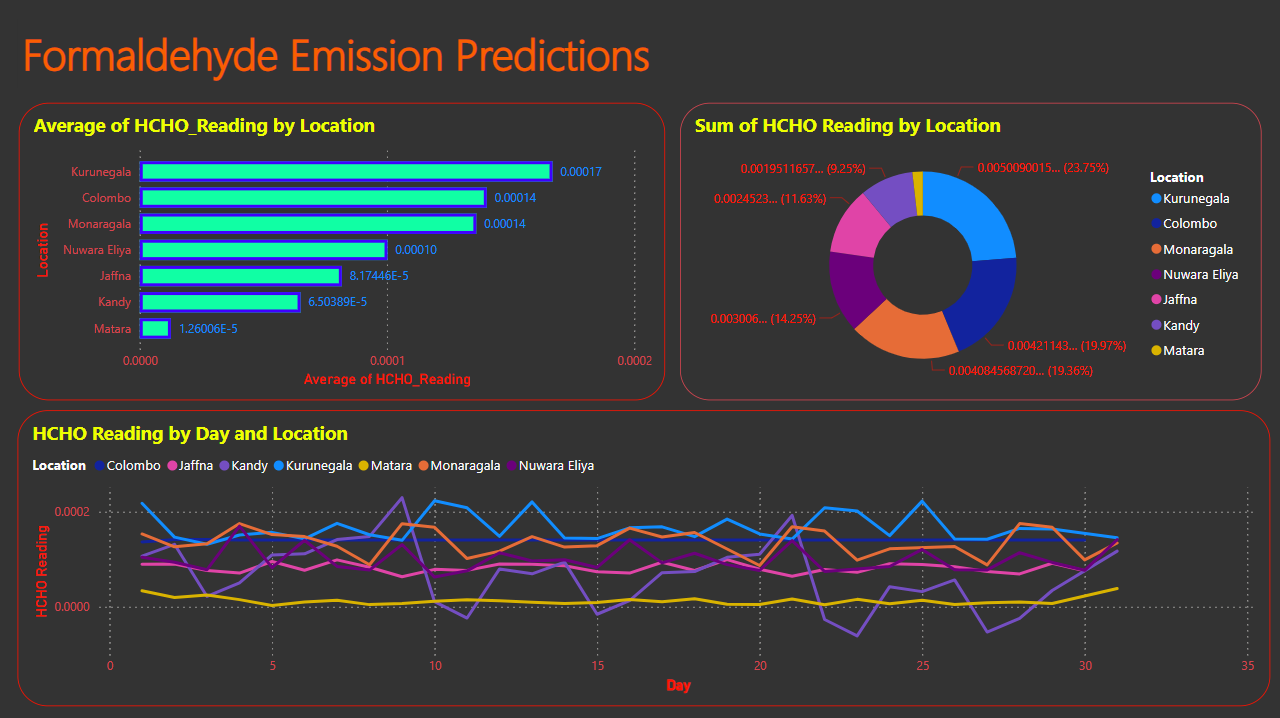

The dashboard page shown, as its layout file describes it:
{"tool":"powerbi","page":{"name":"Emission Predictions","canvas":[1280,720],"ordinal":0},"visuals":[{"type":"textbox","box":[17.5,20,647.5,68.8],"z":0},{"type":"donutChart","title":"Sum of HCHO Reading by Location","fields":{"Category":["Final_Predictions.Location"],"Y":["Sum(Final_Predictions.HCHO_Reading)"]},"box":[680,103.8,581.2,297.5],"z":1000},{"type":"barChart","fields":{"Category":["Final_Predictions.Location"],"Y":["Avg(Final_Predictions.HCHO_Reading)"]},"box":[18.8,103.8,646.2,297.5],"z":2000},{"type":"lineChart","title":"HCHO Reading by Day and Location","fields":{"Category":["Final_Predictions.Date.Variation.Date Hierarchy.Day"],"Y":["Sum(Final_Predictions.HCHO_Reading)"],"Series":["Final_Predictions.Location"]},"box":[17.5,411.2,1252.5,296.2],"z":3000}]}

Visuals, with their boxes in screenshot pixels (x1, y1, x2, y2), scaled from the page's 1280x720 canvas onto the 1280x718 screenshot:
textbox: <bbox>18, 20, 665, 89</bbox>
"Sum of HCHO Reading by Location" donutChart: <bbox>680, 104, 1261, 400</bbox>
barChart - Final_Predictions.Location x Avg(Final_Predictions.HCHO_Reading): <bbox>19, 104, 665, 400</bbox>
"HCHO Reading by Day and Location" lineChart: <bbox>18, 410, 1270, 705</bbox>
